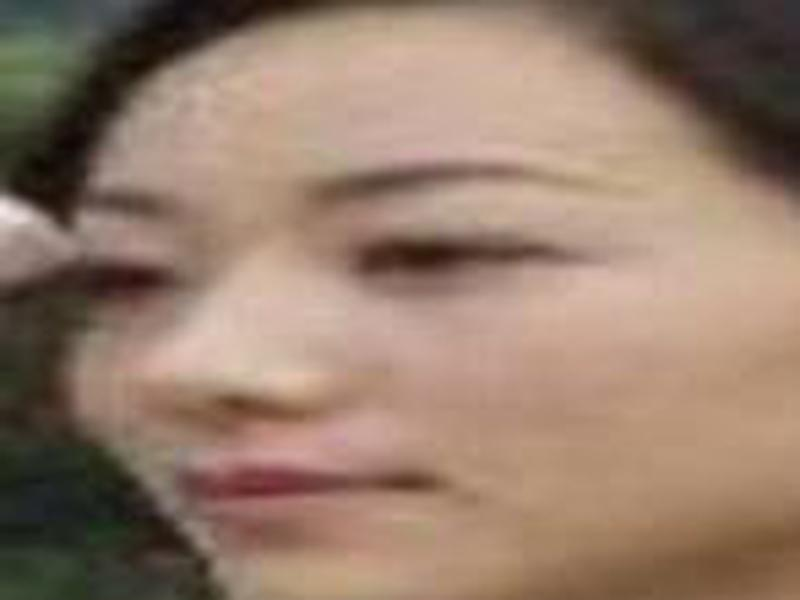without_mask: (56, 14, 796, 600)
